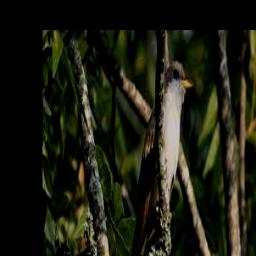Cuckoo: (121, 61, 194, 256)
